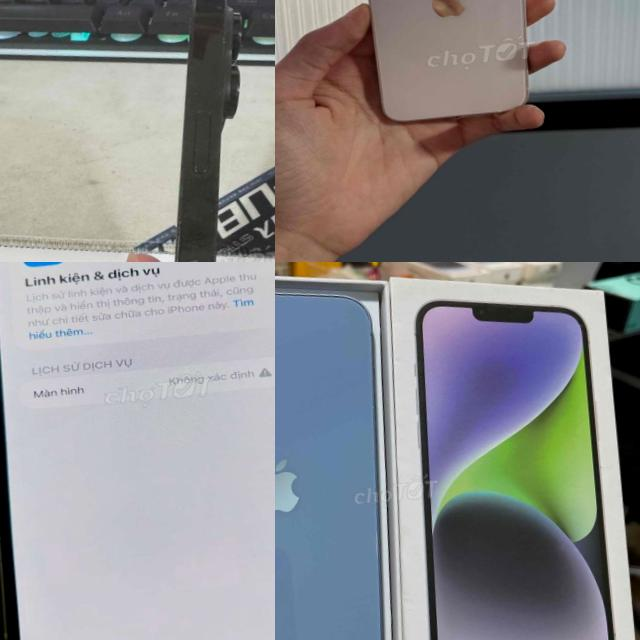gen_12_13: (343, 0, 544, 133)
gen_14: (86, 0, 275, 262), (275, 268, 405, 640)
